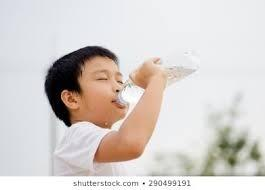Drinking: (61, 53, 166, 118)
